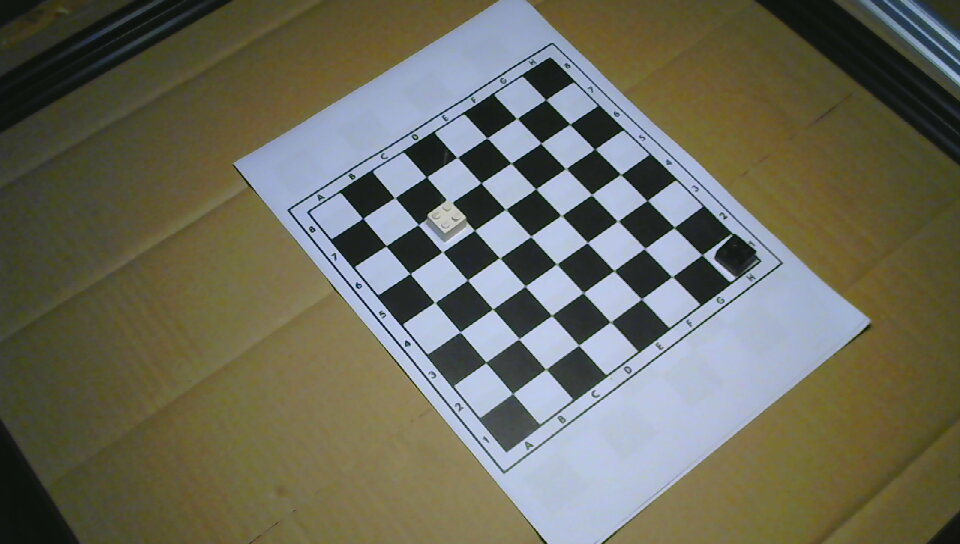bp: (714, 231, 757, 275)
wp: (427, 200, 467, 243)
